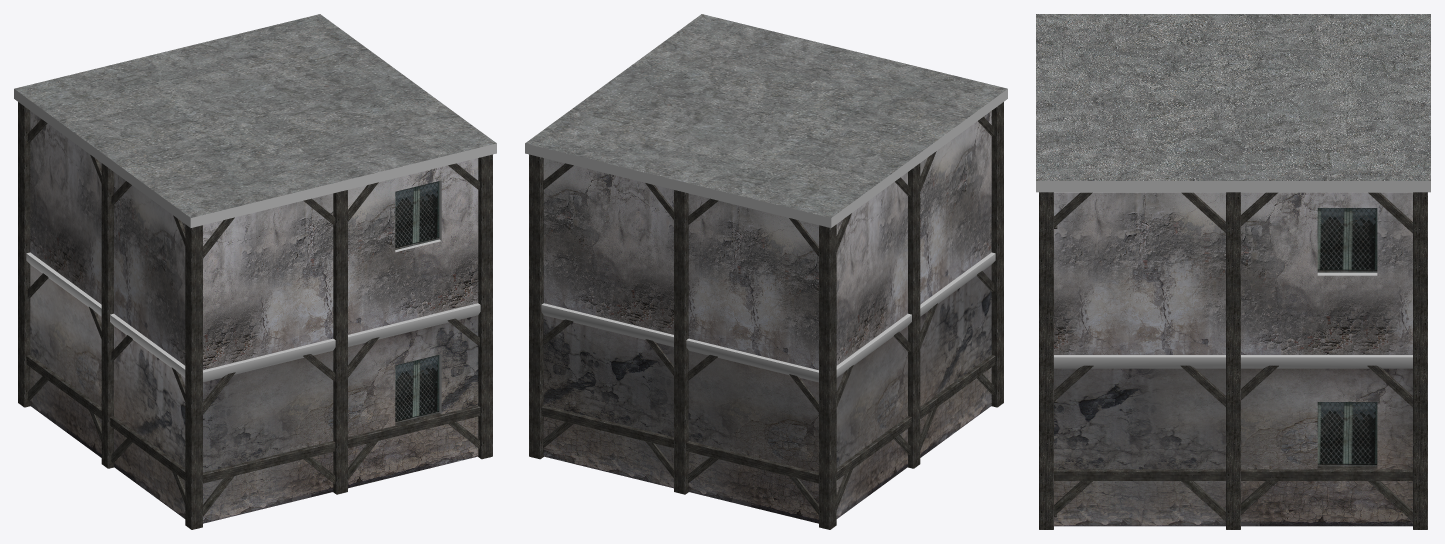
The model's file is Building_00.fbx.
The picture shows the model from 3 angles, left to right: view 1: azimuth 30°, elevation 25°; view 2: azimuth 150°, elevation 25°; view 3: azimuth 270°, elevation 25°; orthographic projection. The views are drawn at different scales.
Visible parts, largest first — view 1: Building_00; view 2: Building_00; view 3: Building_00.
Boxes of the visible parts, bbox=[...] form: Building_00: bbox=[14, 14, 496, 529]; Building_00: bbox=[525, 14, 1007, 529]; Building_00: bbox=[1036, 14, 1430, 529].
Size of the model in its own units: 528 by 517 by 528.
